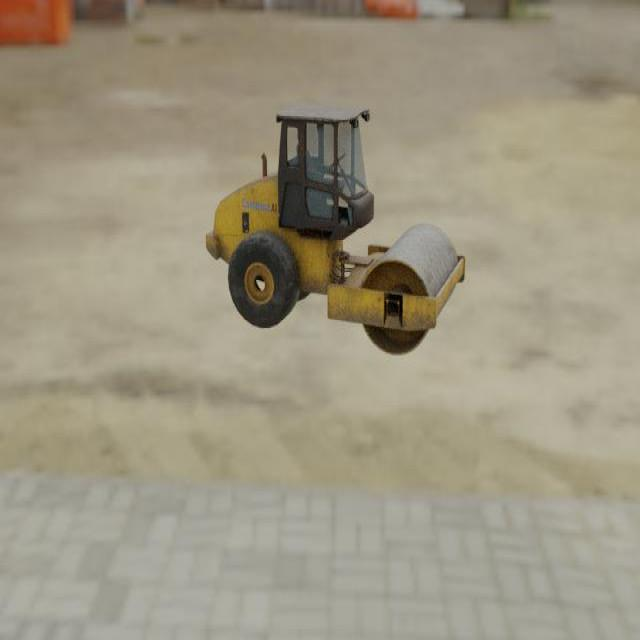Roller: (205, 103, 466, 356)
